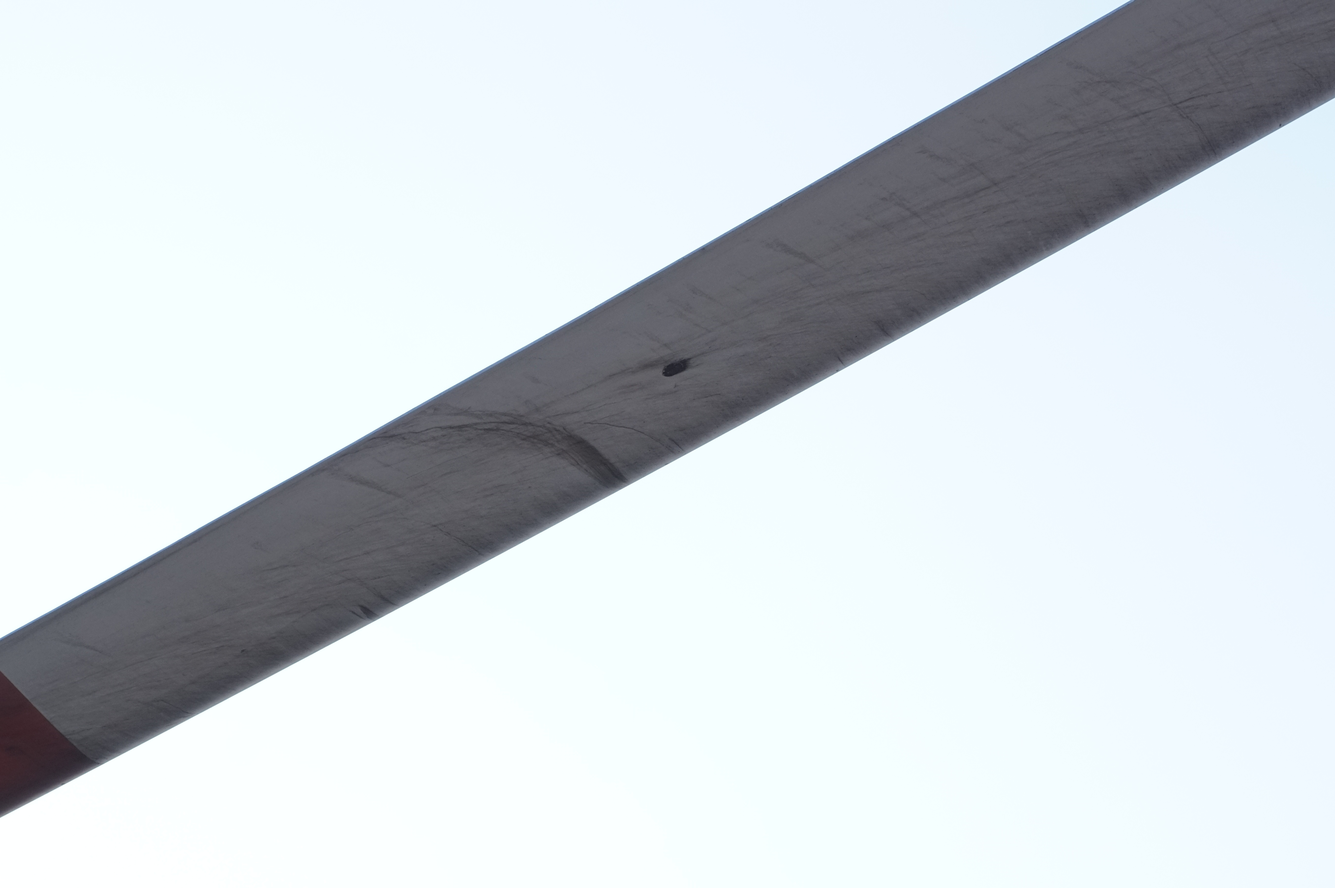Damage: (662, 361, 687, 378)
